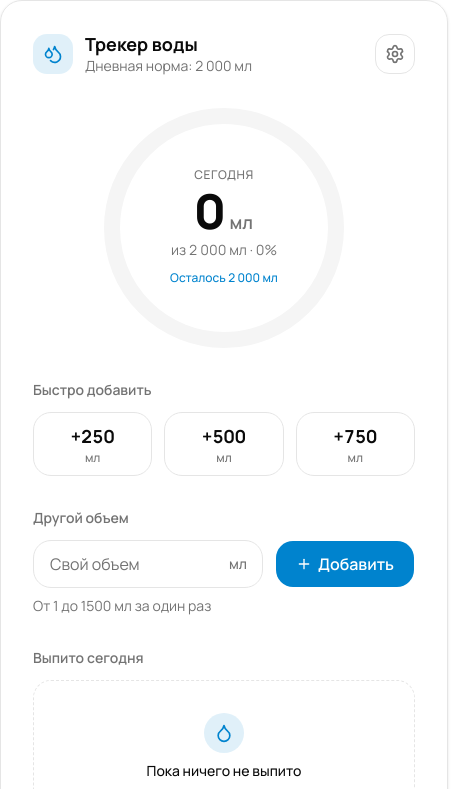
Test case: WaterTracker: ошибка сервера › показывает сообщение при сетевой ошибке fetch
Type "250" into the field with placeholder "Свой объем".
click(148, 564); type("250")  # box [33,540,263,588]
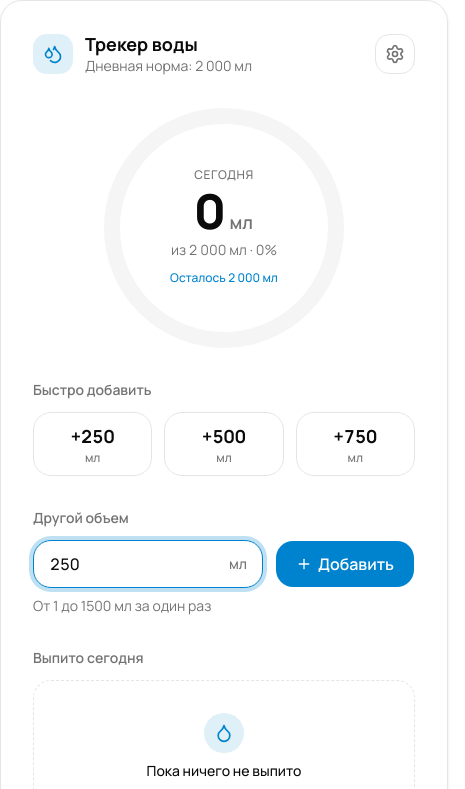
Click the button "Добавить".
click(345, 564)  # box [275,540,415,588]
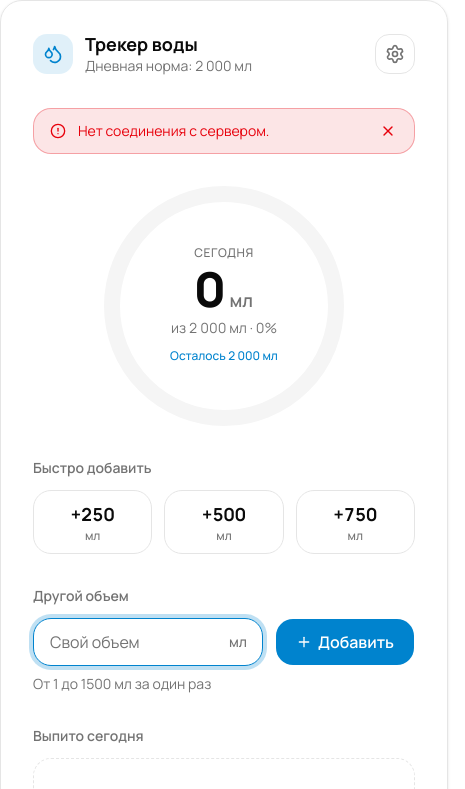
Check: the button "Добавить" is enabled, box [275,618,415,666]
Check: the message reads "Нет соединения с сервером.", box [78,120,269,140]
